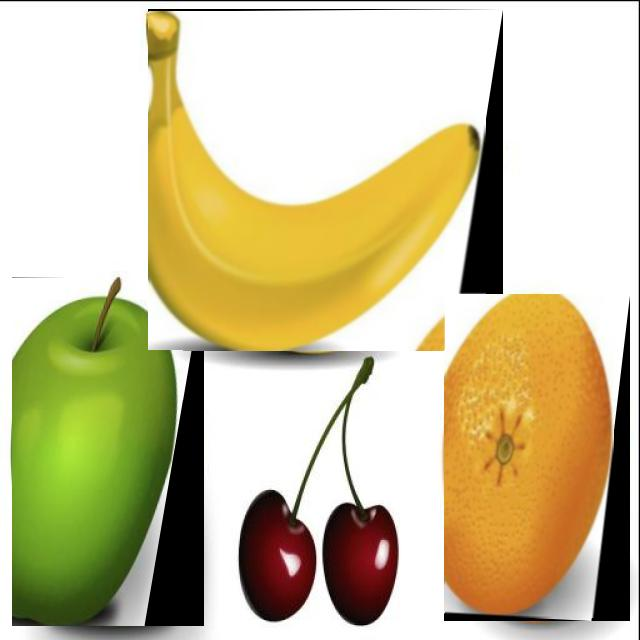1: (149, 11, 485, 350)
Apple: (12, 278, 182, 625)
oar: (445, 295, 613, 618)
